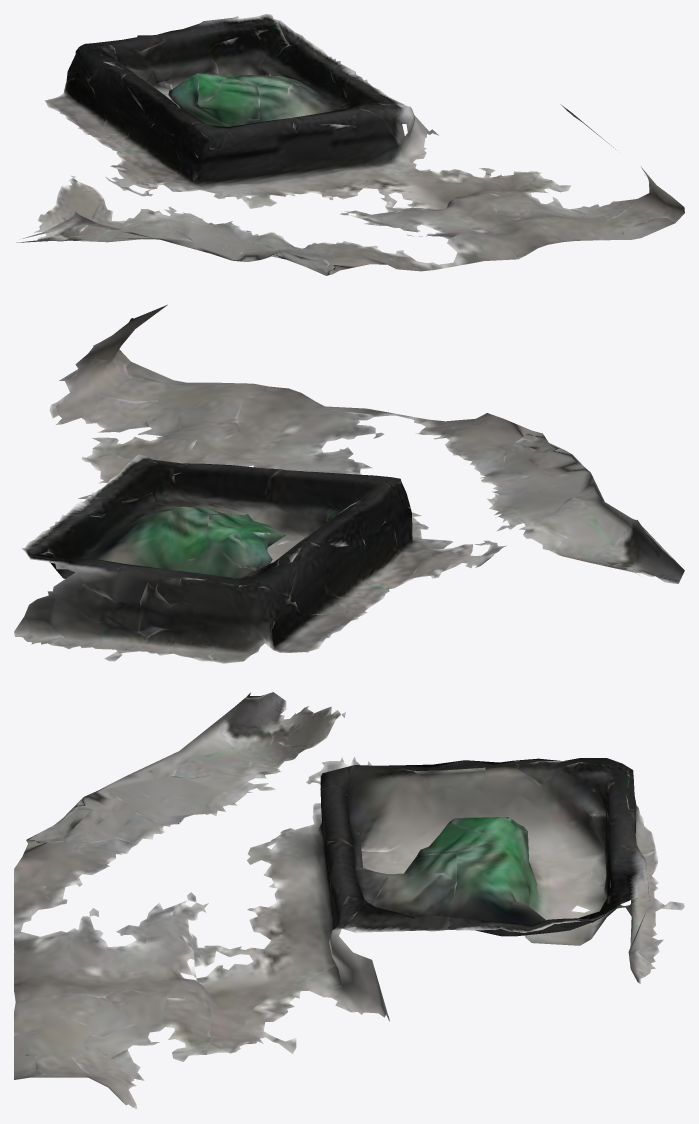
The model's file is hall.glb.
3 renders of one model, top to bottom at view 1: azimuth 30°, elevation 25°; view 2: azimuth 150°, elevation 25°; view 3: azimuth 270°, elevation 25°, orthographic. The views are drawn at different scales.
Bounding box in the file's own units: 1.33 × 0.2424 × 1.09.
1 material, 1 textured.
